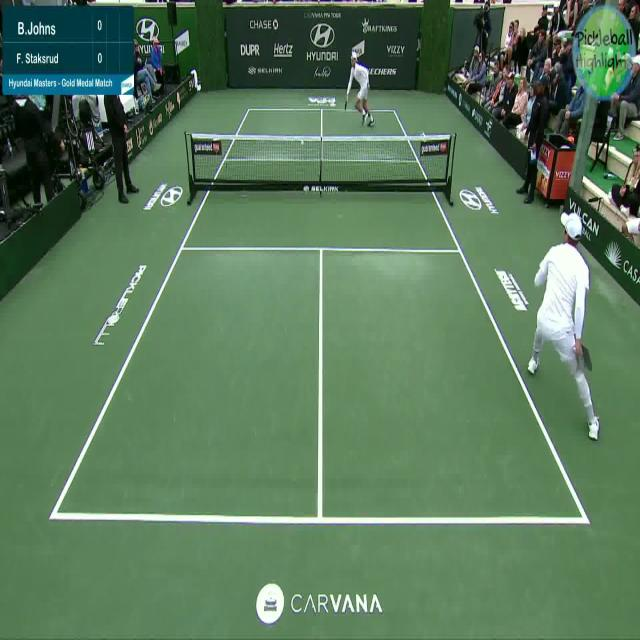Court: (51, 110, 586, 519)
ball: (300, 138, 306, 148)
